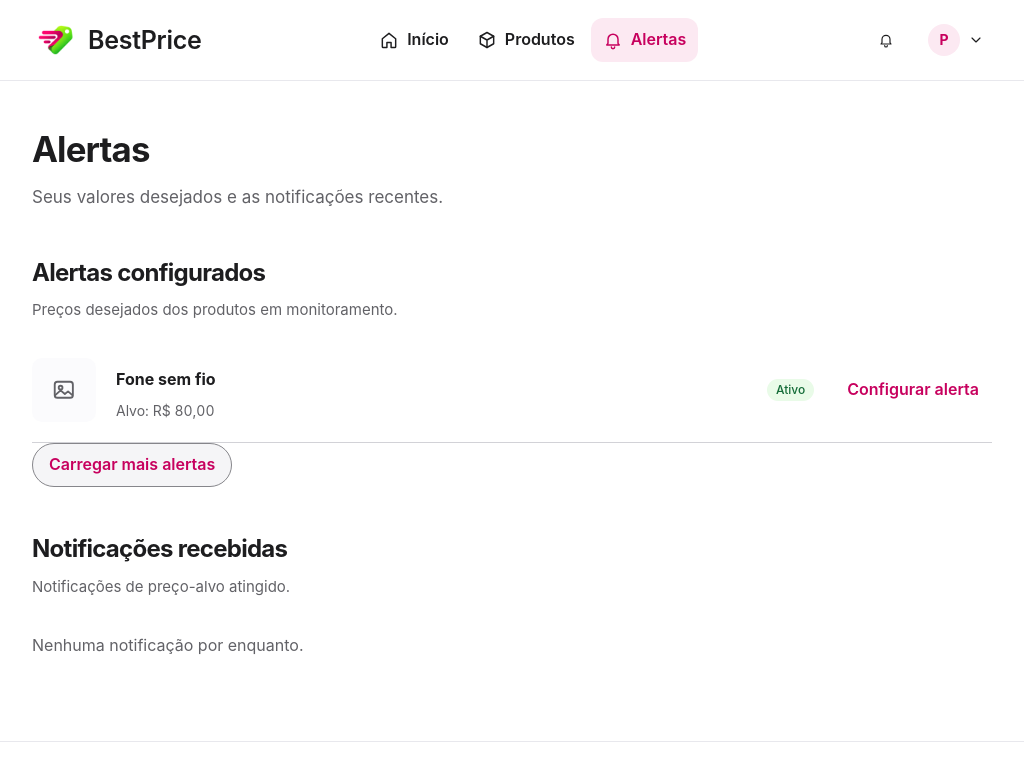
Scenario: alertas percorrem página vazia intermediária até alcançar o próximo alerta
Expected: the text "Alvo: R$ 80,00" is shown, left=116, top=402, right=214, bottom=419
Click the button "Carregar mais alertas".
click(132, 465)  # box left=32, top=443, right=232, bottom=487
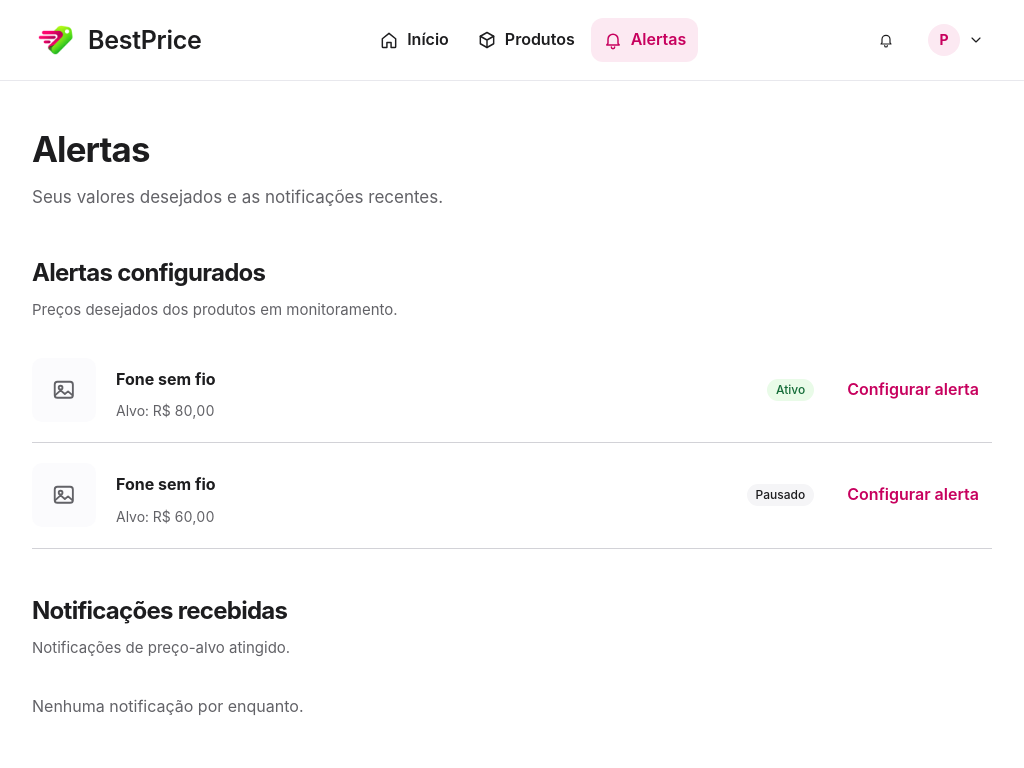
Expected: the text "Alvo: R$ 60,00" is shown, left=116, top=508, right=214, bottom=525
Expected: the text "Pausado" is shown, left=747, top=484, right=814, bottom=506
Expected: the button "Carregar mais alertas" is gone
